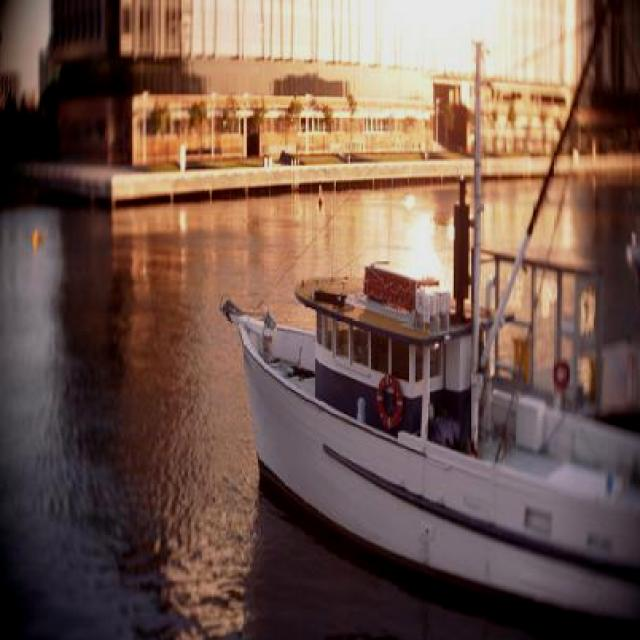ship: (226, 41, 640, 640)
